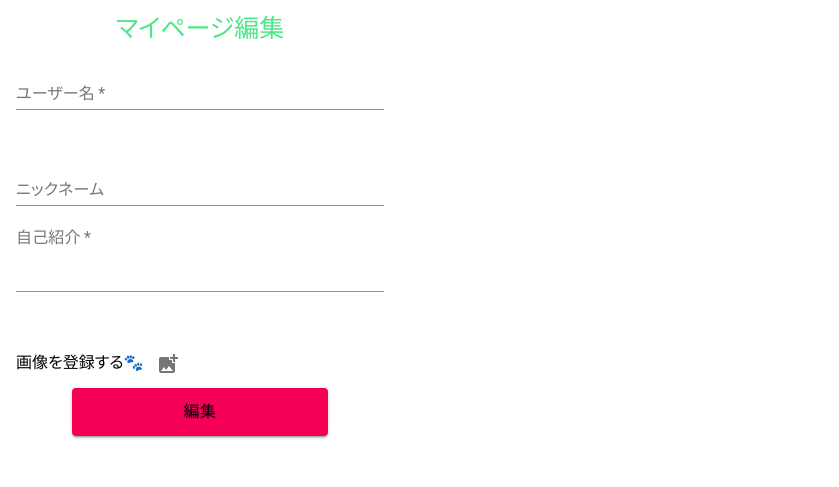
it: Rendering MyPageEdit › Put success › 成功メッセージが表示される
This screenshot has width=839, height=487.
What coordinates should you click on to do the following:
click the button "編集"
I would click on:
 (200, 412)
Its box is [72, 388, 328, 436].
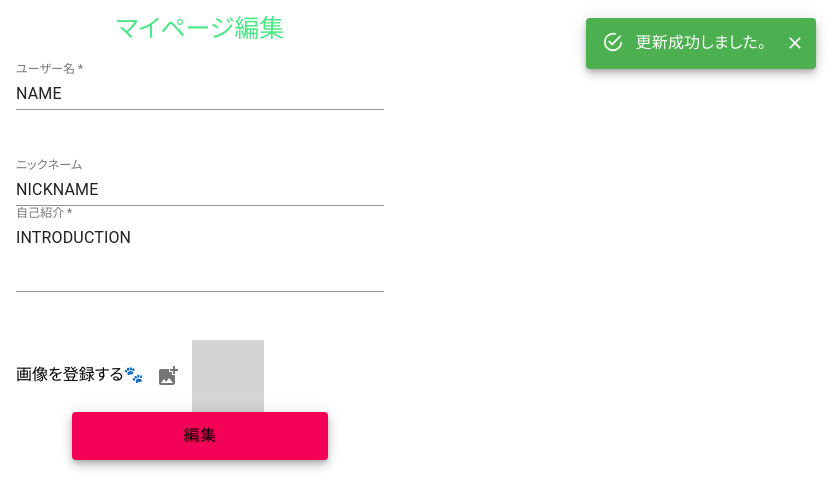
Check: the text "更新成功しました。" is shown, box [636, 33, 766, 52]
